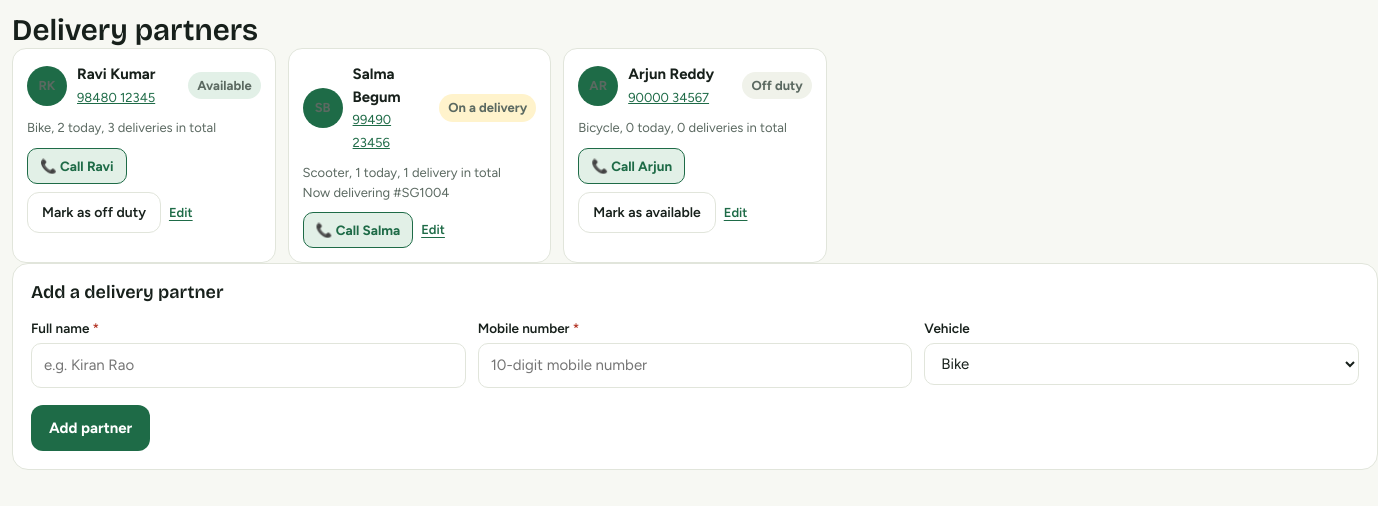
it: Delivery partners › adds a partner after checking the mobile number
Later steps or results of the test are not shown.
Type "Kiran Rao" into the field labelled "Full name *" at (248, 365), box left=31, top=343, right=466, bottom=388
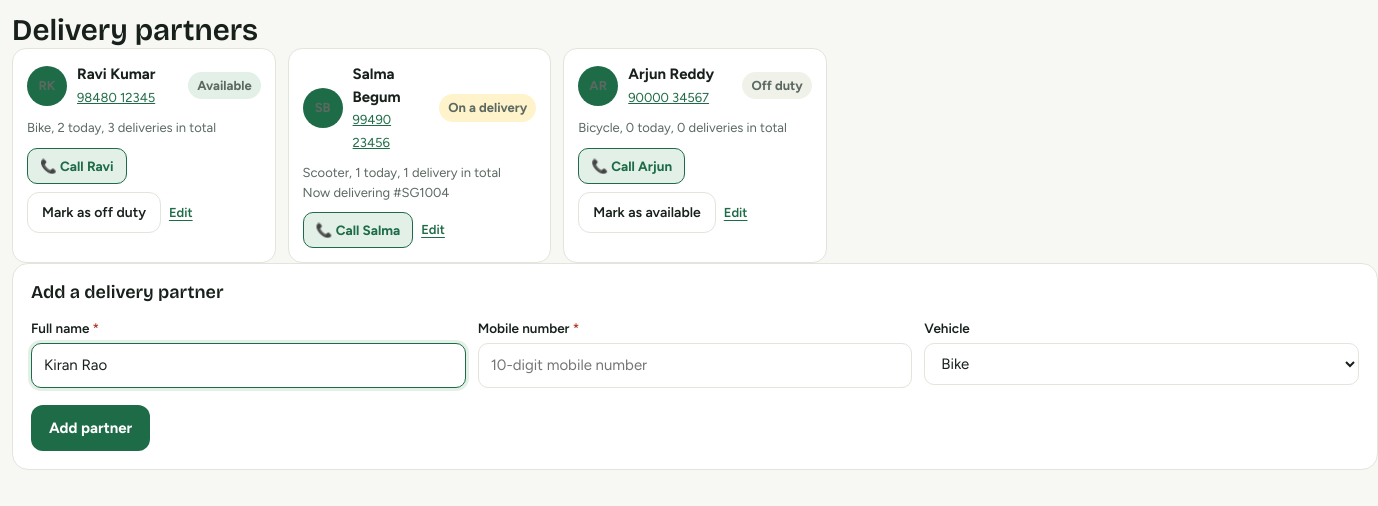
Type "12345" into the field labelled "Mobile number *" at (695, 365), box left=478, top=343, right=912, bottom=388
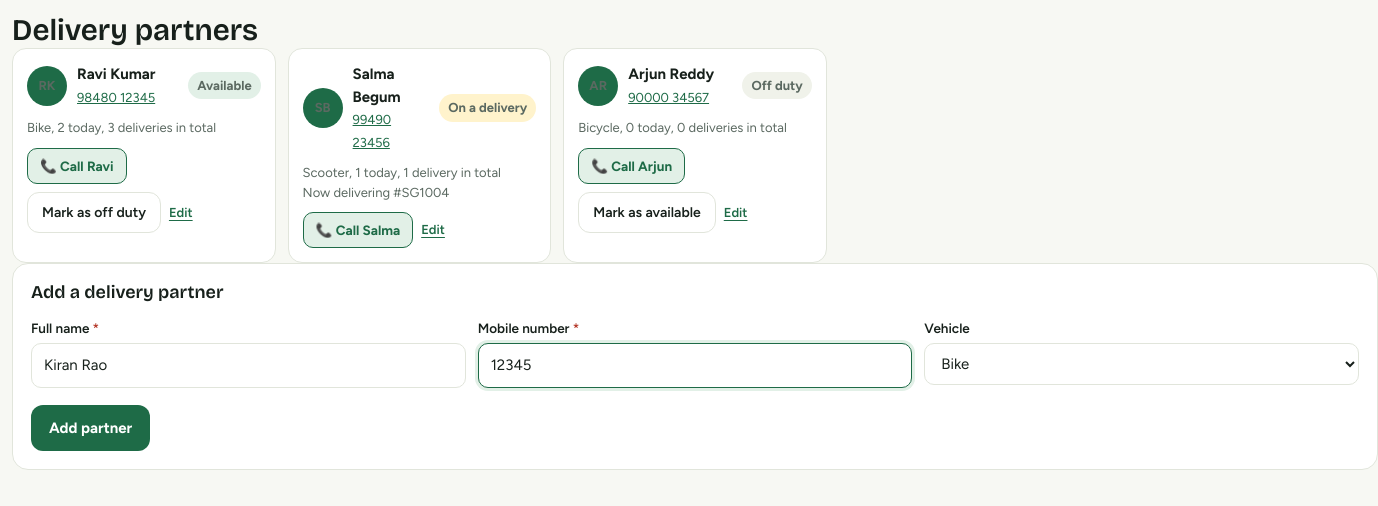
Click the button "Add partner" at (91, 428), box left=31, top=405, right=150, bottom=451
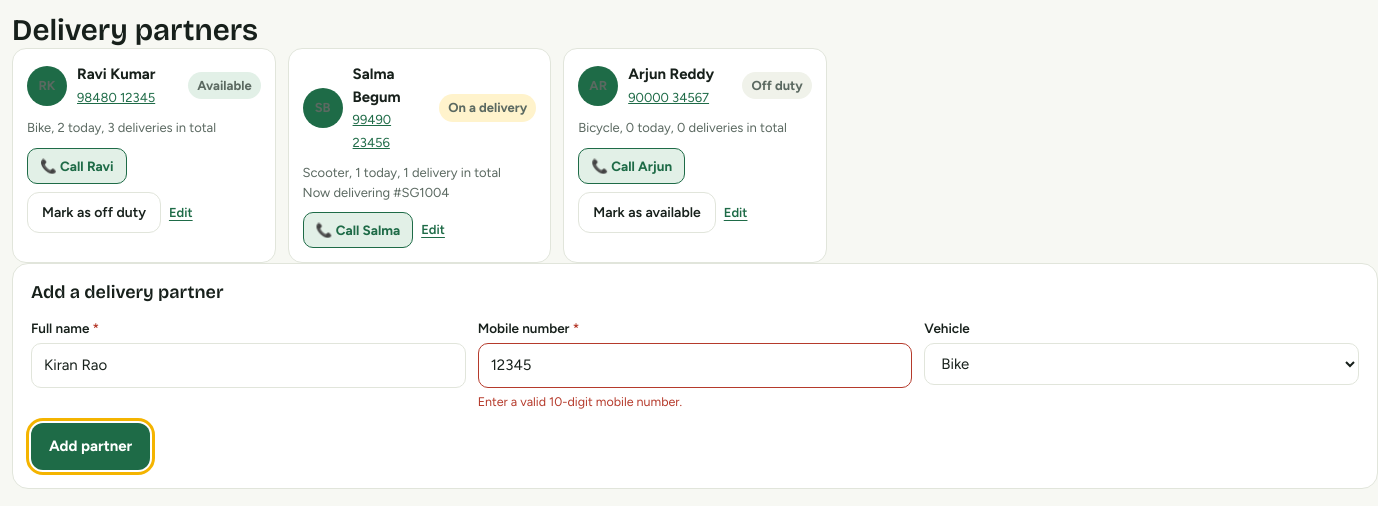
Expected: the text "Enter a valid 10-digit mobile number." is shown, left=478, top=394, right=682, bottom=409
